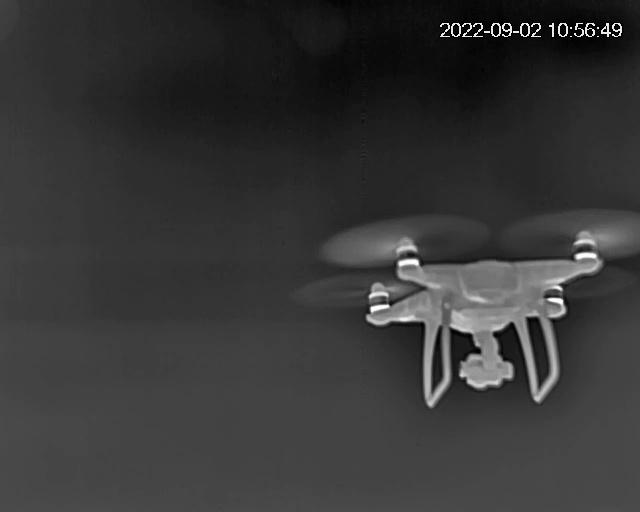DJI-Phantom: (360, 226, 621, 406)
